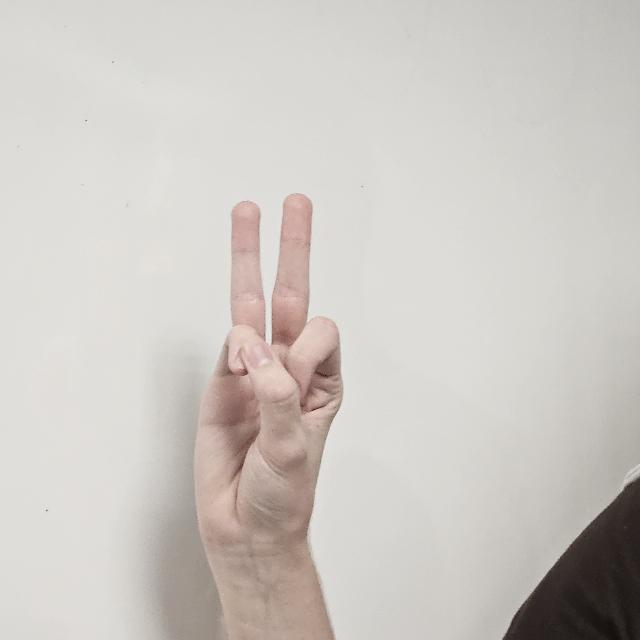R: (192, 192, 342, 564)
